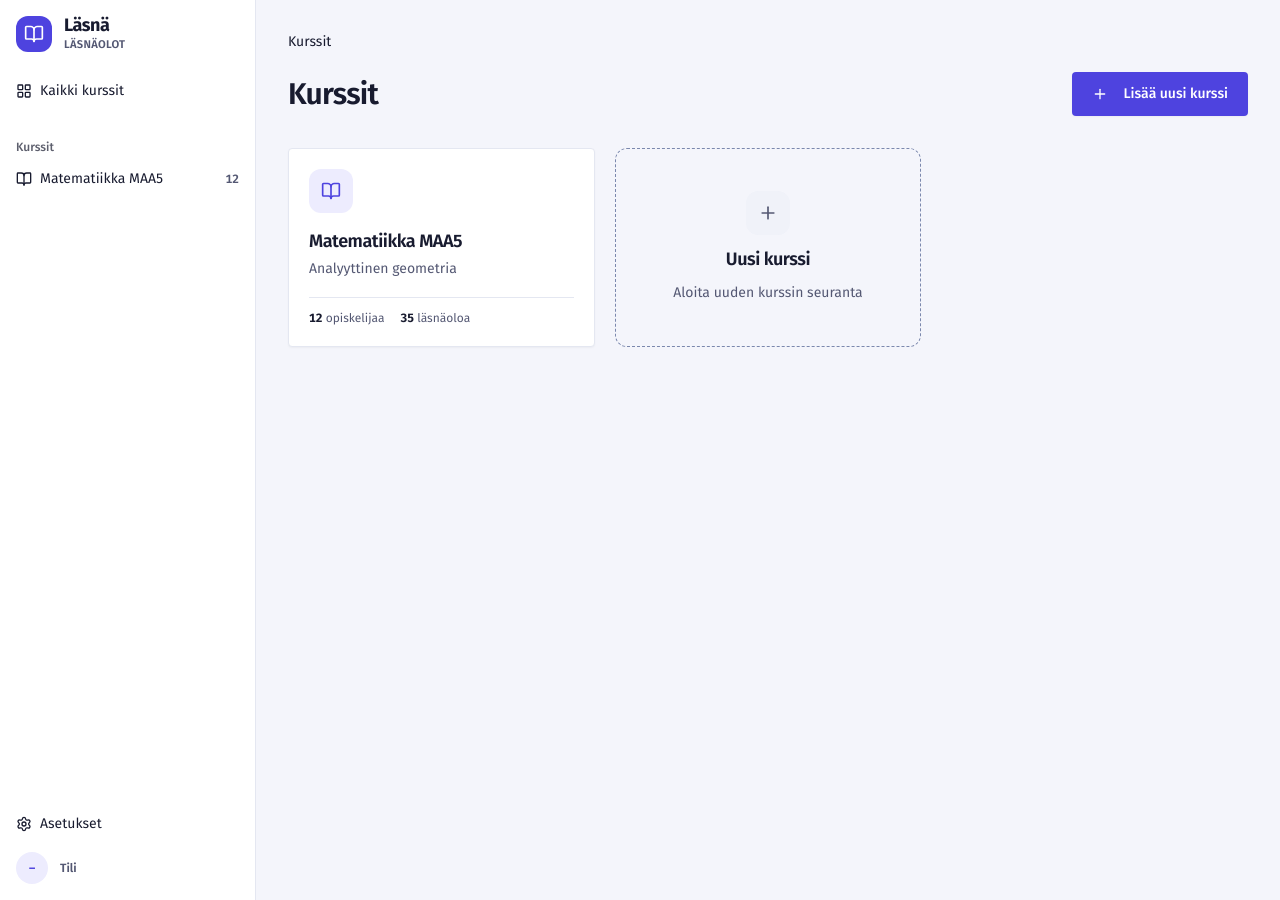
the dashboard with courses on it › offers a dashed new-course affordance in the grid that opens the dialog
Click the button "Uusi kurssi Aloita uuden kurssin seuranta": point(768, 247) [615,148,921,346]
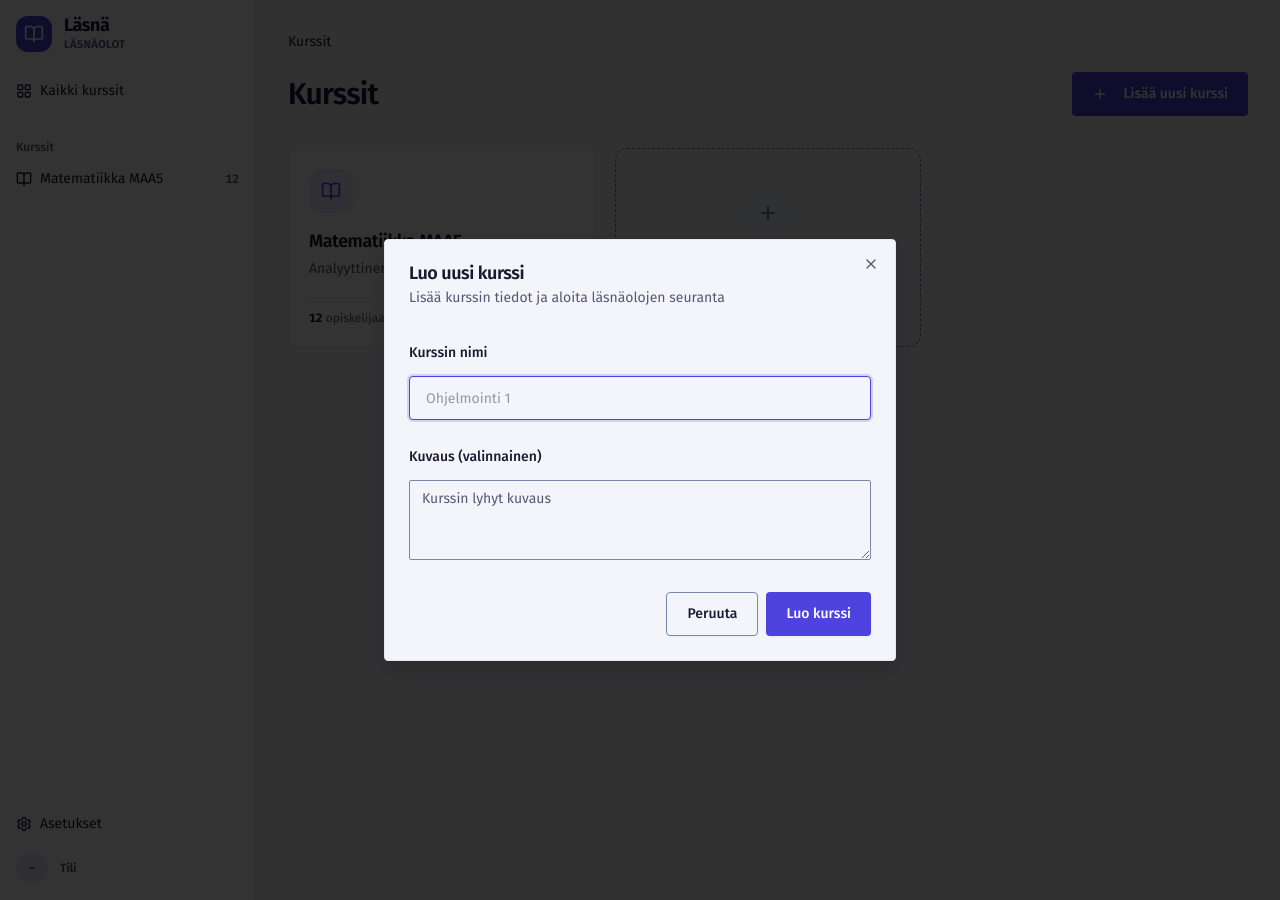
expect the dialog "Luo uusi kurssi" is shown: met, box [384,239,896,661]
